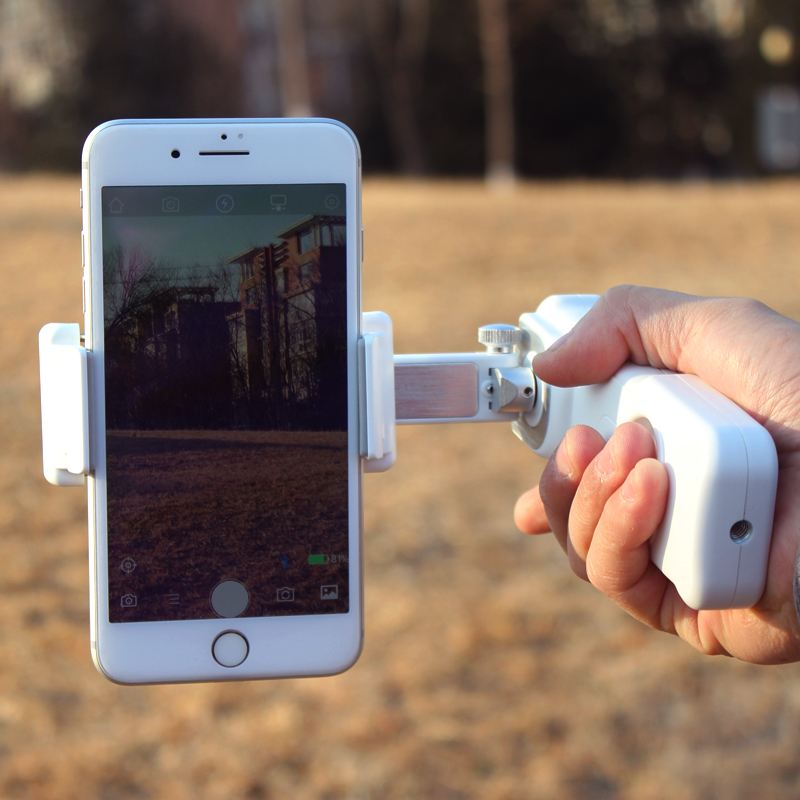phone: (67, 104, 800, 739)
